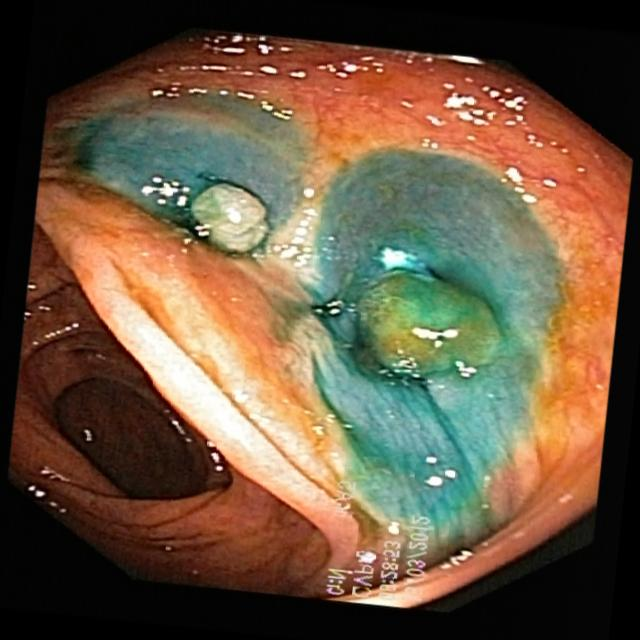dyed-lifted-polyps: (341, 247, 528, 394), (175, 165, 275, 261)
